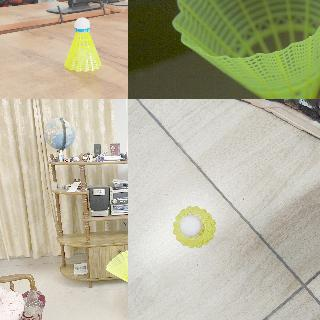shuttlecock: (172, 0, 319, 98), (64, 17, 102, 72), (171, 205, 215, 247), (105, 250, 127, 289)
